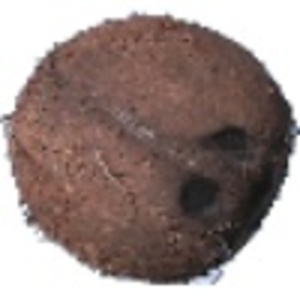coco: (1, 11, 300, 286)
